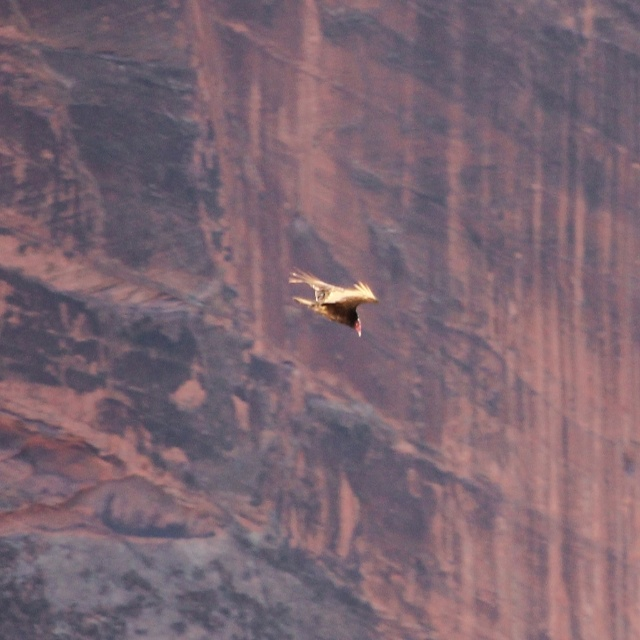Eagle: (289, 266, 380, 345)
